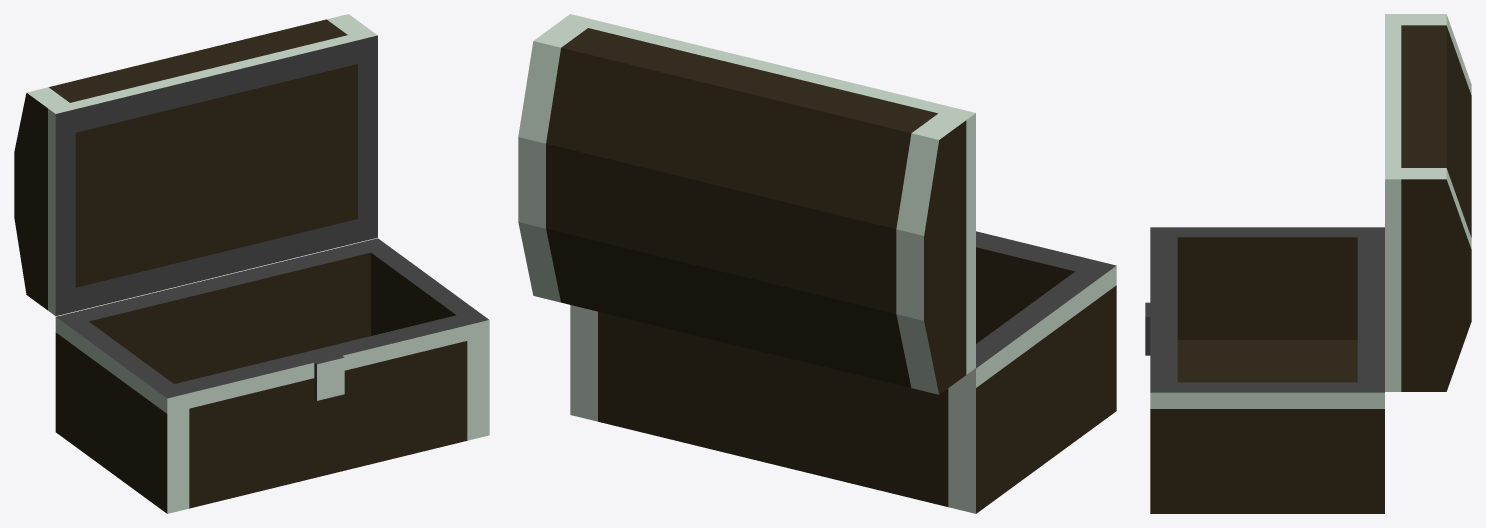
3 views of the same model, side by side, from view 1: azimuth 30°, elevation 25°; view 2: azimuth 150°, elevation 25°; view 3: azimuth 270°, elevation 25° (orthographic). The views are drawn at different scales.
Visible parts, largest first — view 1: Box042; view 2: Box042; view 3: Box042.
Boxes of the visible parts, left/top/right/bottom form: Box042: left=14, top=14, right=489, bottom=513; Box042: left=518, top=14, right=1116, bottom=513; Box042: left=1145, top=14, right=1471, bottom=513.
Bounding box in the file's own units: 1 × 0.944 × 0.8348.
